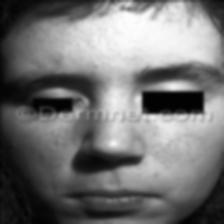Non-Cancerous Skin Condition: (85, 10, 164, 56), (28, 130, 76, 160), (73, 209, 146, 224), (152, 140, 204, 158)
